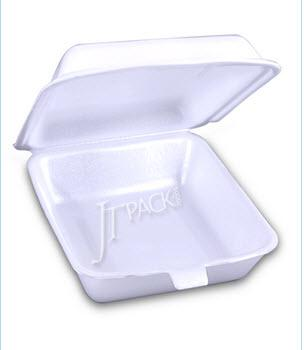Foam Box: (11, 32, 285, 305)
